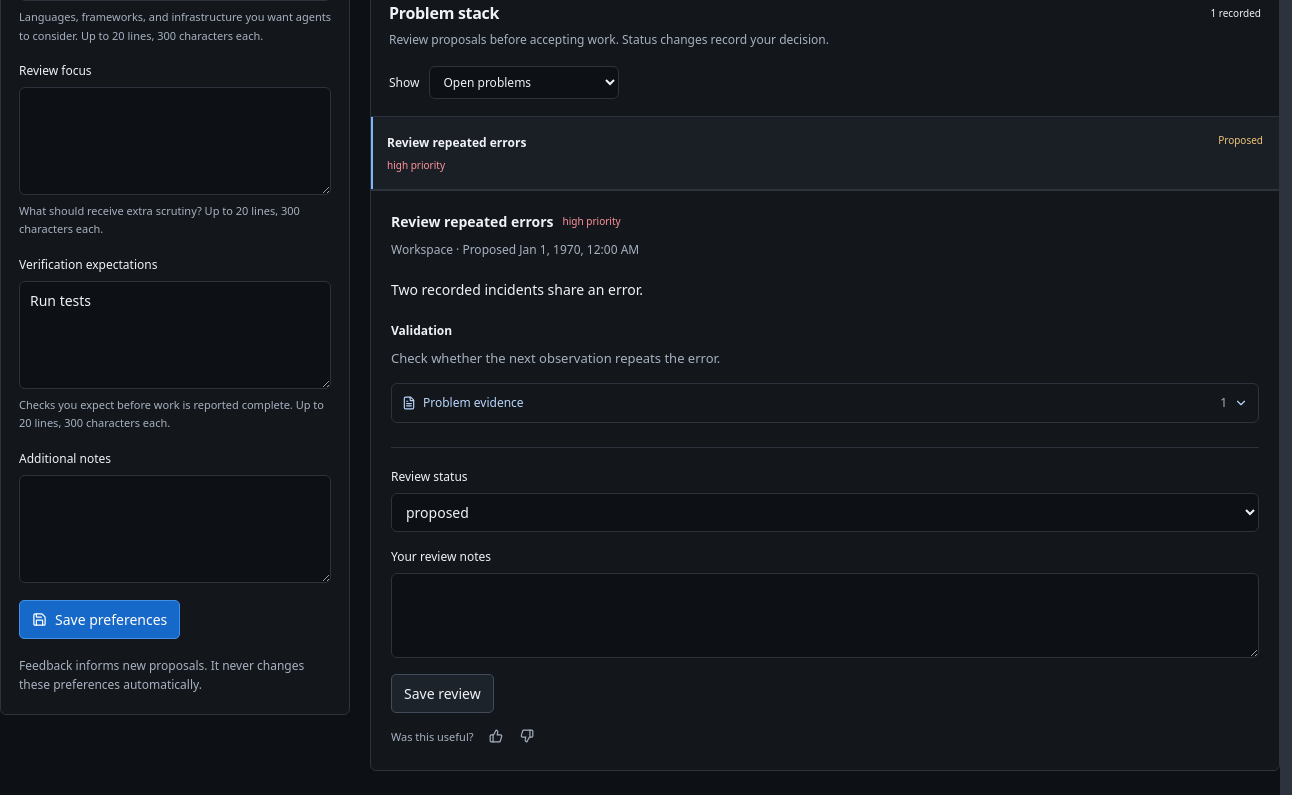
Test case: persistent Studio interfaces › saves an explicit problem review with its current revision
(page scrolled)
Check: the heading "Review repeated errors" is shown, box [391,211,554,232]
Select "accepted" in the dropdown labelled "Review status": (825, 512) [391,493,1259,532]
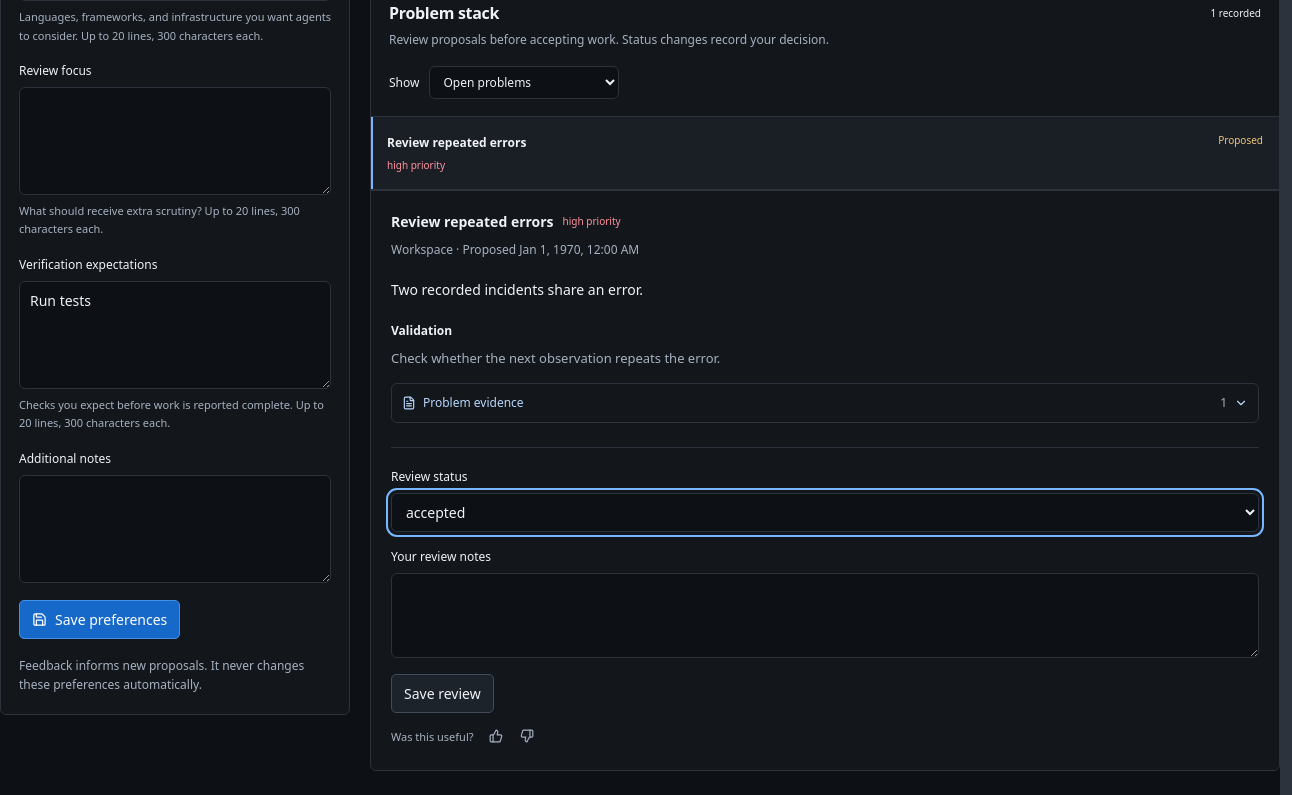
In the text box labelled "Your review notes": (825, 615) [391,573,1259,658], type "Investigate next"
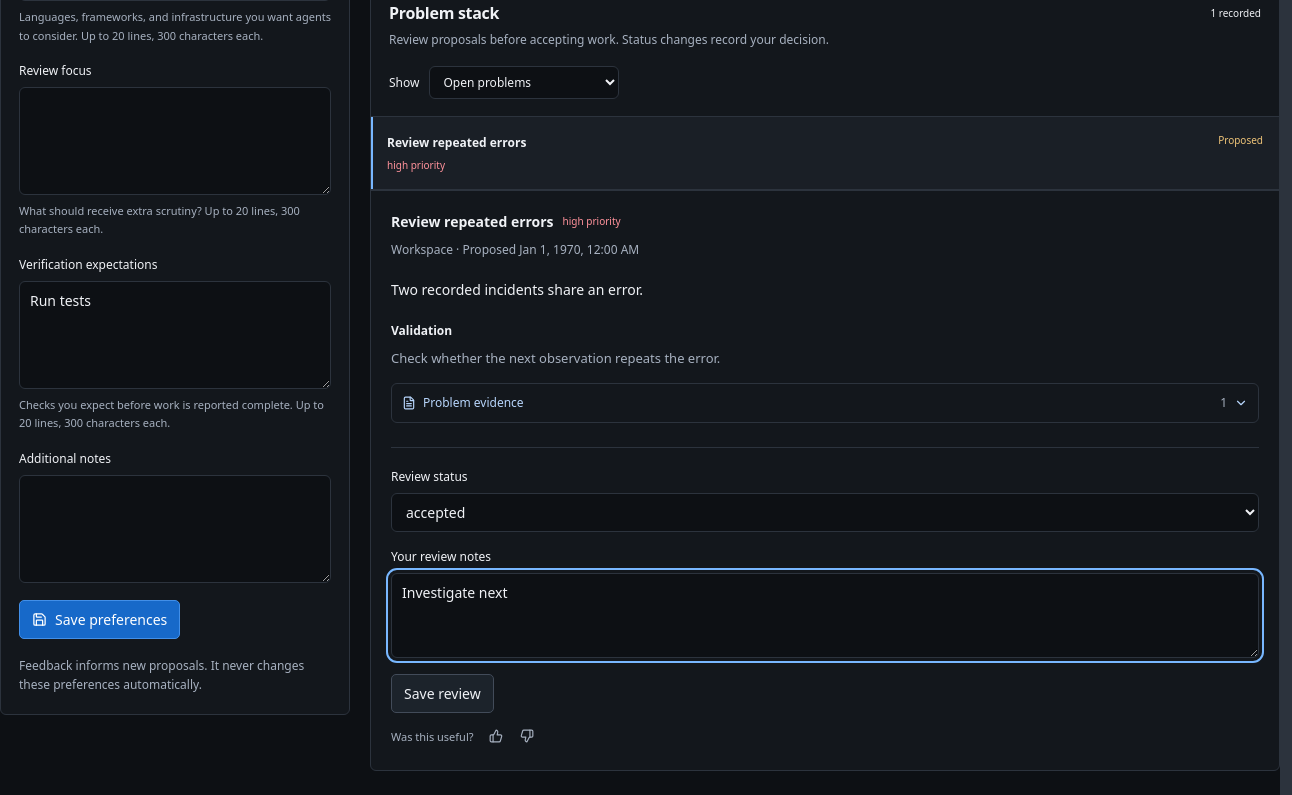
Click the button "Save review": (442, 693) [391,674,494,713]
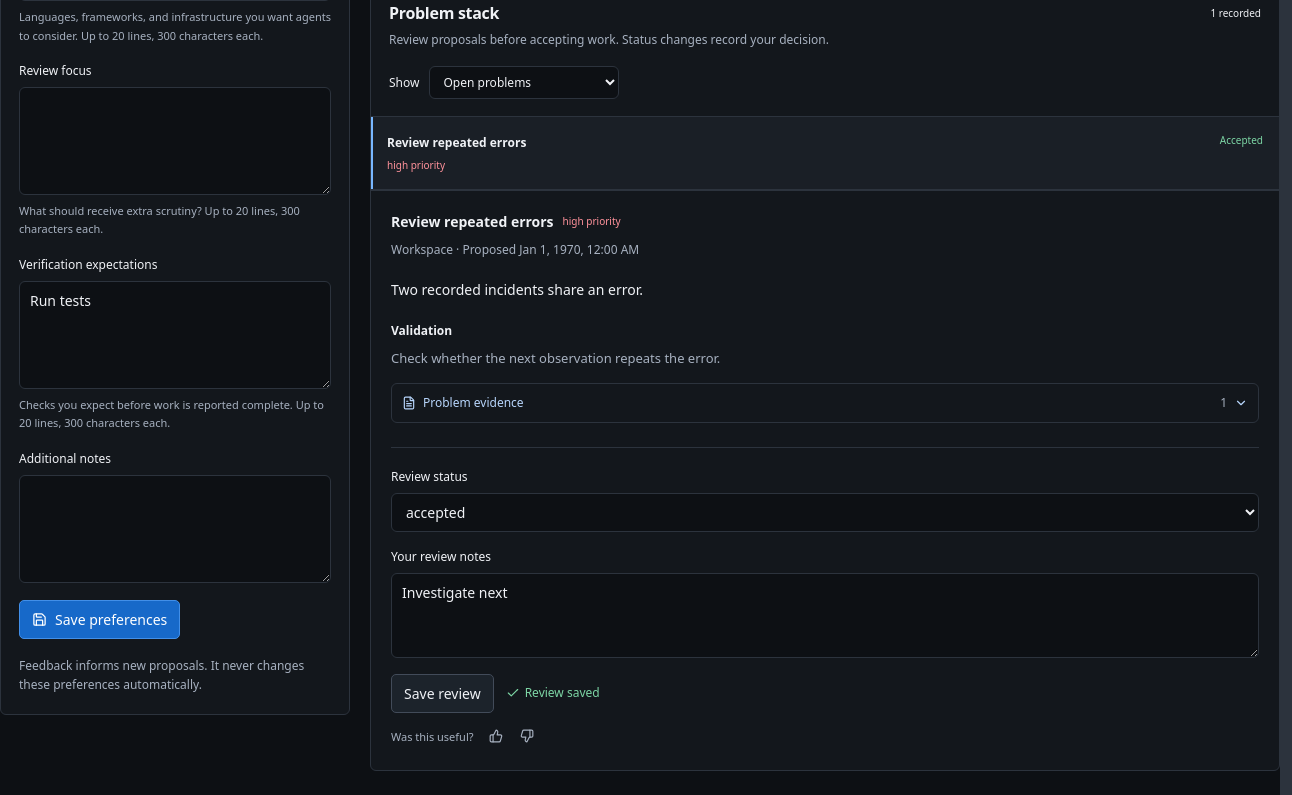
Check: the text "Review saved" is shown, box [506,684,600,702]
